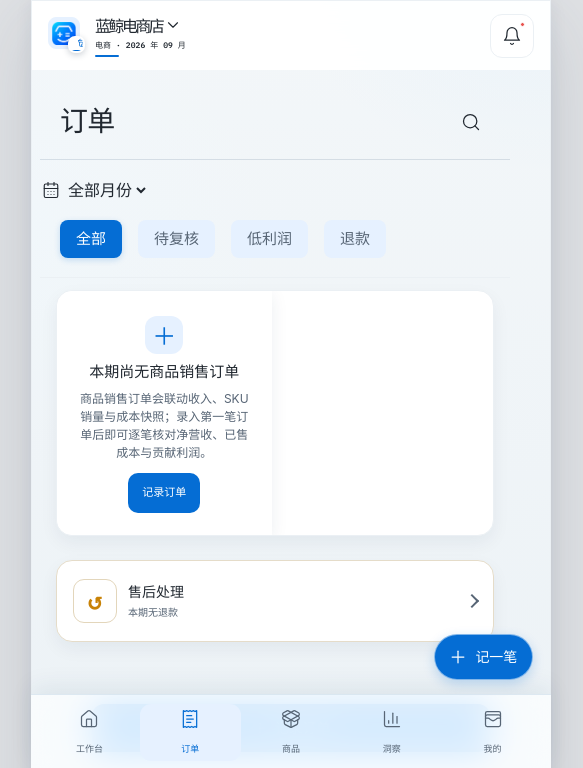
Scenario: C4 订单页无订单空态：结果—原因—主行动 › 点击主按钮「记录订单」进入既有订单录入表单
Expected: the heading "订单" is shown, [60,105,114,139]
Click the button "记录订单" at x=164, y=492, box [128,472,200,512]
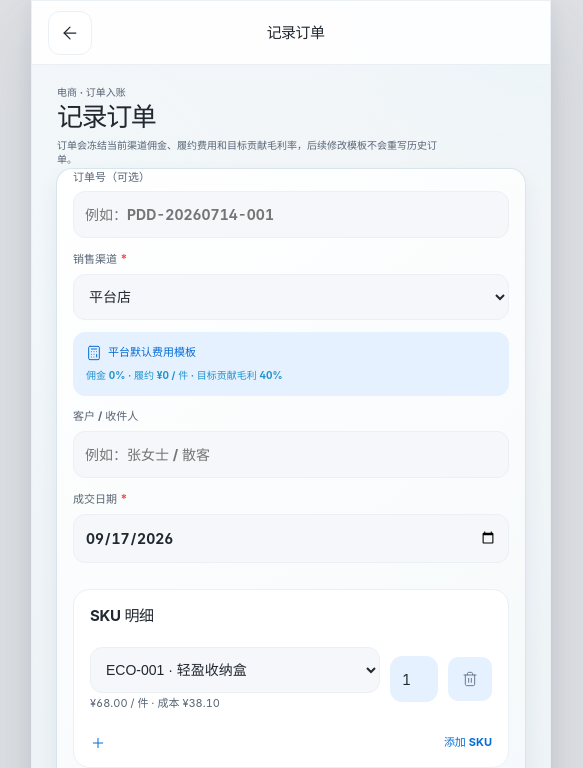
Expected: the heading "记录订单" is shown, [57,101,155,132]
